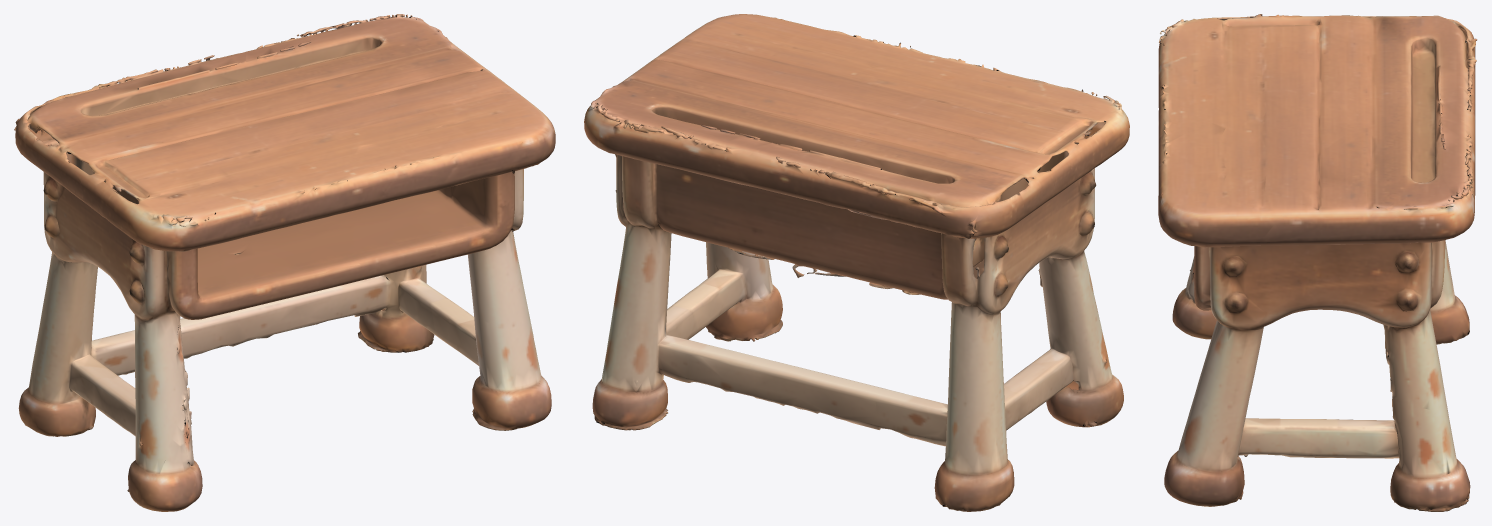
File: C8_课桌_后续修改2.glb
3 views of the same model, side by side, from view 1: azimuth 30°, elevation 25°; view 2: azimuth 150°, elevation 25°; view 3: azimuth 270°, elevation 25° (orthographic).
Visible parts, largest first — view 1: desk_body; view 2: desk_body; view 3: desk_body.
Part boxes in pixels (x1,y1,x2,y2): desk_body: (14,14,555,511); desk_body: (584,14,1129,511); desk_body: (1158,14,1477,511).
Size of the model in its own units: 1 by 0.7168 by 0.6644.
1 material, 1 textured.
